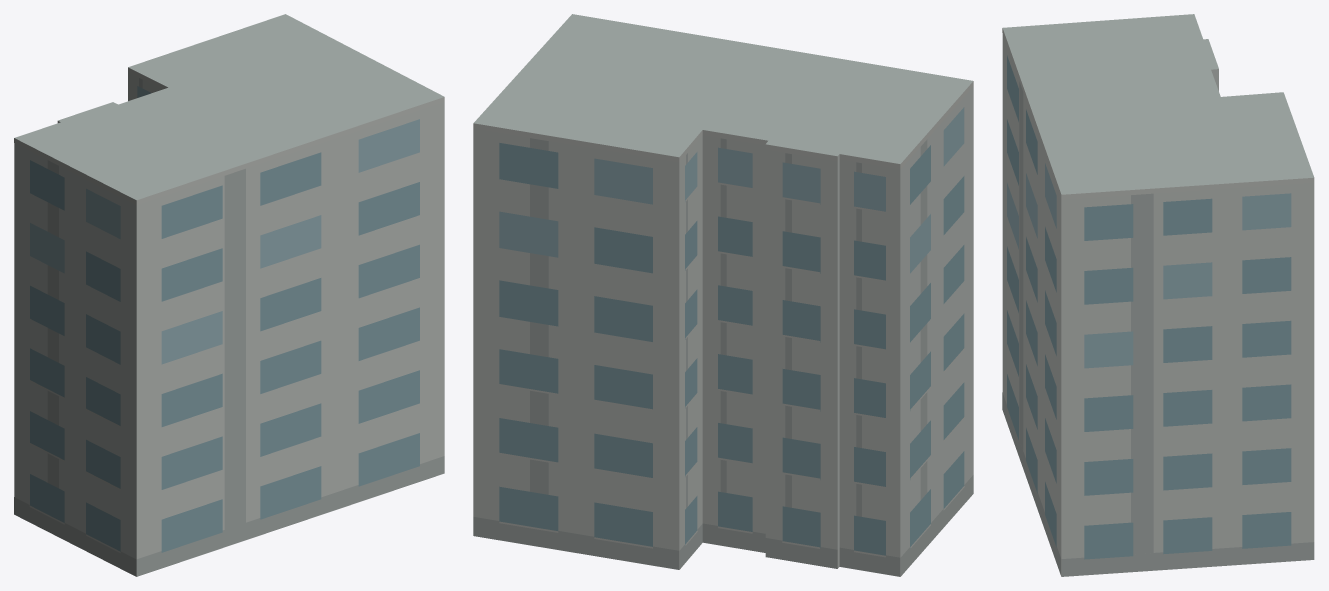
Rendered from survey-upis-32807968.glb.
The picture shows the model from 3 angles, left to right: view 1: azimuth 30°, elevation 25°; view 2: azimuth 150°, elevation 25°; view 3: azimuth 270°, elevation 25°; orthographic projection. The views are drawn at different scales.
Visible parts, largest first — view 1: survey-upis-32807968.tmp; view 2: survey-upis-32807968.tmp; view 3: survey-upis-32807968.tmp.
Boxes of the visible parts, x1=… form: survey-upis-32807968.tmp: x1=14, y1=14, x2=444, y2=576; survey-upis-32807968.tmp: x1=473, y1=14, x2=973, y2=576; survey-upis-32807968.tmp: x1=1002, y1=14, x2=1314, y2=576.
Bounding box in the file's own units: 18.57 × 18.3 × 13.55.
